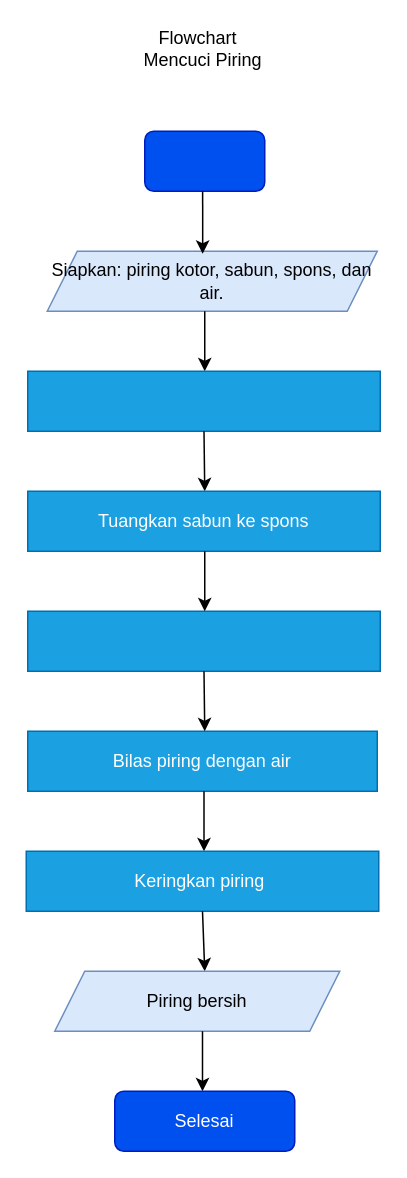
Image size: 407x1178. Some labels were removed from this diagram. Here are the shapes that lost their labels. From the top down, the centre of each, then its label:
At point 204,160: "Mulai".
At point 203,400: "Basahi piring dengan air".
At point 203,640: "Gosok piring hingga bersih".
